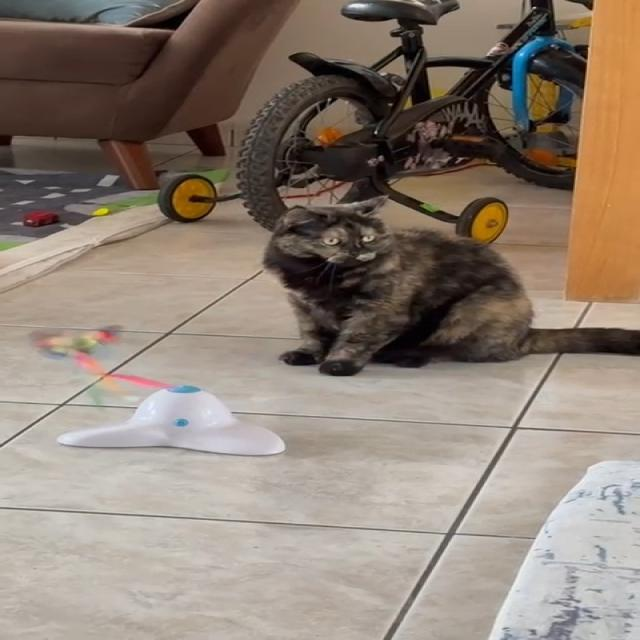authorized: (261, 194, 639, 376)
